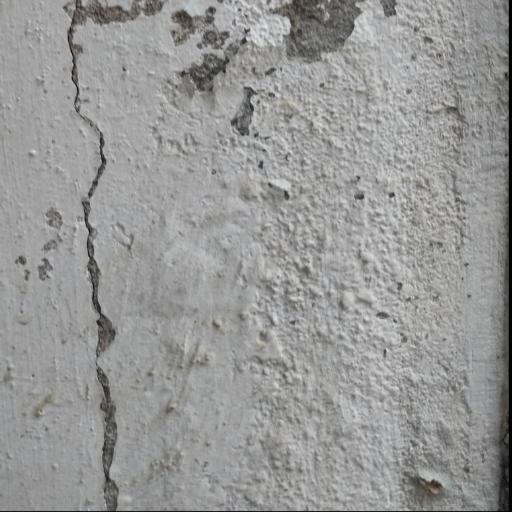major_crack: (49, 0, 150, 512)
